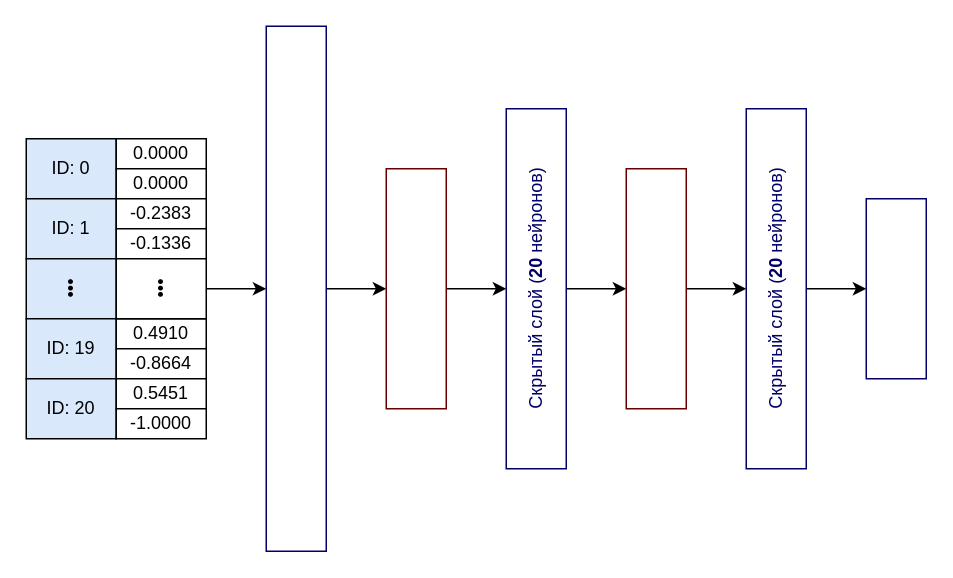
Image size: 953x578. Some labels were removed from this diagram. The shapes that lost their labels are listed below. From the top down, each one's centre as x and y in pixels, then its label:
At point 295,288: "Входной слой ( 42 нейрона)".
At point 415,288: "Дропаут ( 20 %)".
At point 655,288: "Дропаут ( 40 %)".
At point 895,288: "Выходной слой ( n нейронов)".
